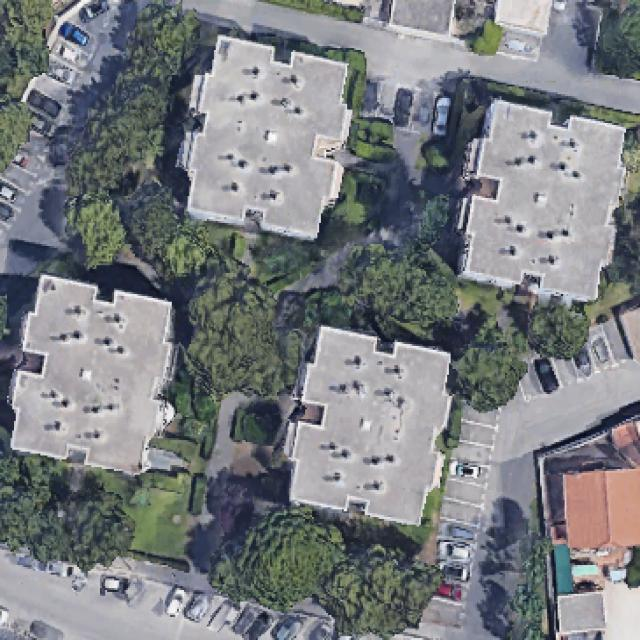immeuble: (168, 33, 363, 242), (0, 271, 194, 481), (446, 96, 637, 306), (279, 324, 464, 528)
maison: (562, 468, 640, 549)
